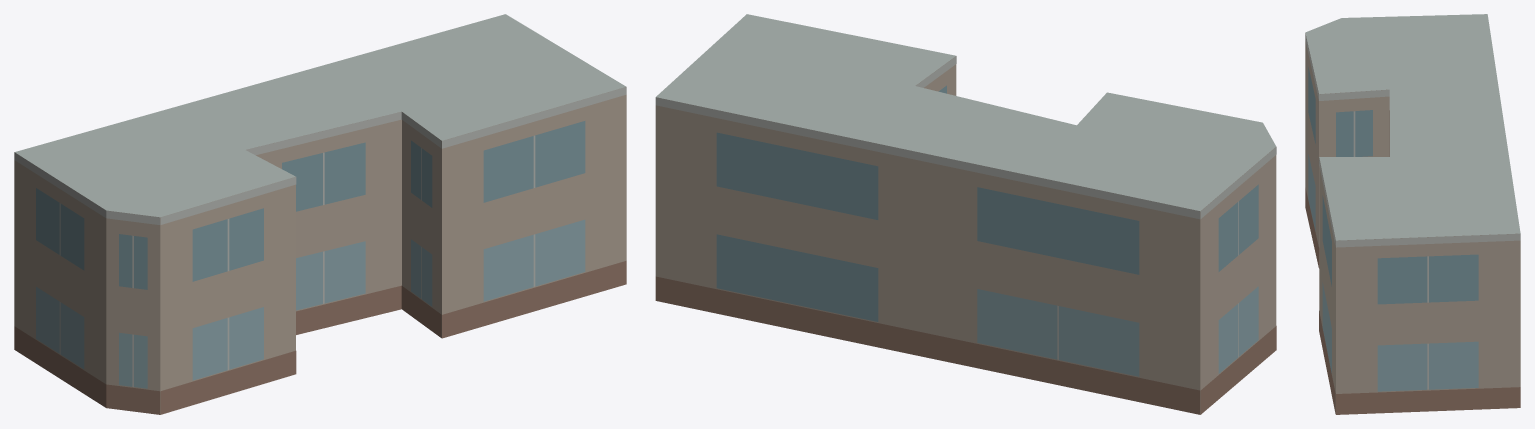
Rendered from survey-upis-32759487.glb.
3 renders of one model, left to right at view 1: azimuth 30°, elevation 25°; view 2: azimuth 150°, elevation 25°; view 3: azimuth 270°, elevation 25°, orthographic. The views are drawn at different scales.
Visible parts, largest first — view 1: survey-upis-32759487.tmp; view 2: survey-upis-32759487.tmp; view 3: survey-upis-32759487.tmp.
Boxes of the visible parts, x1,y1,x2,y2 form: survey-upis-32759487.tmp: (14, 14, 626, 414); survey-upis-32759487.tmp: (655, 14, 1276, 414); survey-upis-32759487.tmp: (1305, 14, 1520, 414).
Size of the model in its own units: 17.01 by 6.1 by 6.84.
